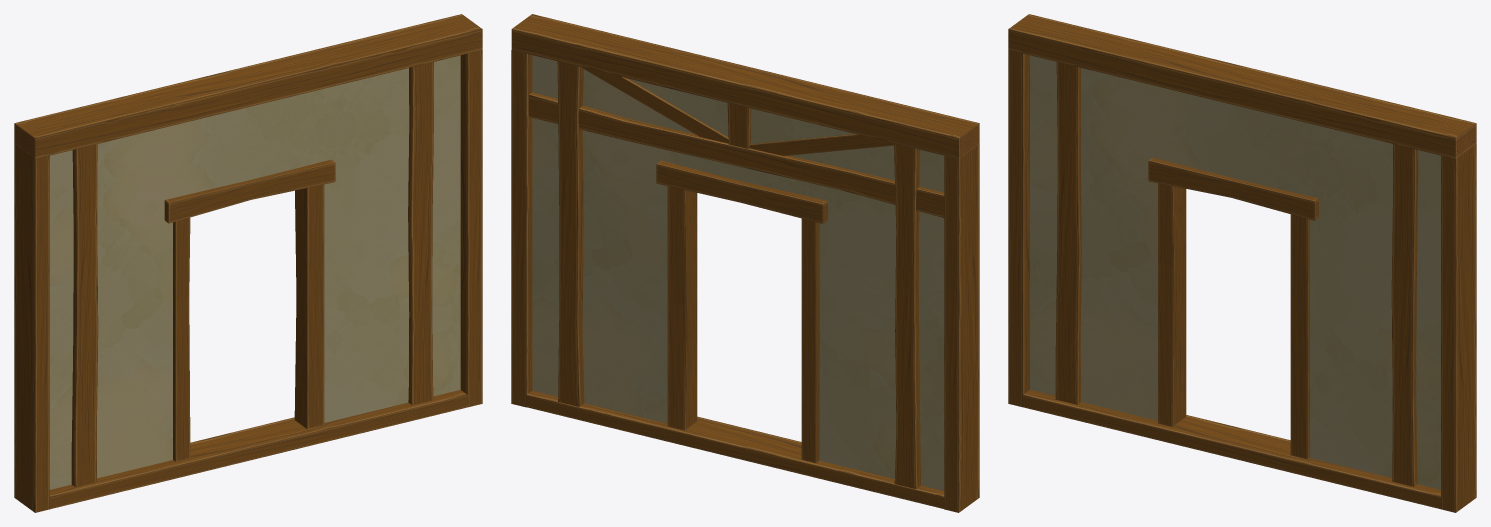
The model's file is SM_House_Wall_5x4_Door_B_03.fbx.
The picture shows the model from 3 angles, left to right: view 1: azimuth 30°, elevation 25°; view 2: azimuth 150°, elevation 25°; view 3: azimuth 330°, elevation 25°; orthographic projection.
Parts seen in each view (by area): view 1: SM_House_Wall_5x4_Door_B_03; view 2: SM_House_Wall_5x4_Door_B_03; view 3: SM_House_Wall_5x4_Door_B_03.
Boxes of the visible parts, box(x1,y1,x2,y2) form: SM_House_Wall_5x4_Door_B_03: box(14, 14, 482, 512); SM_House_Wall_5x4_Door_B_03: box(511, 14, 979, 512); SM_House_Wall_5x4_Door_B_03: box(1008, 14, 1476, 512).
Size of the model in its own units: 5 by 4 by 0.4024.
